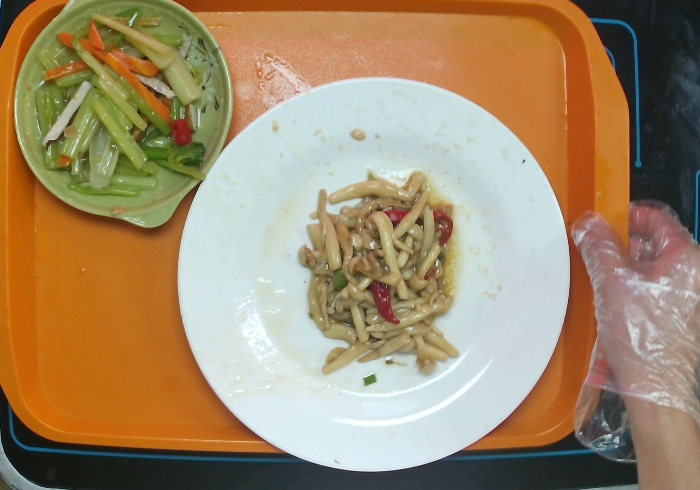NLDX-Da_Yuan_Pan: (171, 74, 572, 474)
NLDX-Lv_Hua_Shuang_Er_Die: (10, 1, 235, 230)
